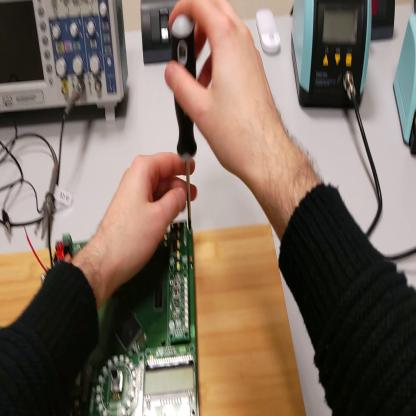hand: (166, 3, 283, 183), (101, 152, 193, 288)
low voltage board: (23, 207, 199, 416)
oscilloscope: (2, 1, 130, 127)
oscilloscope probe tip: (40, 149, 60, 238)
screwdriver-: (172, 16, 198, 232)
socket: (372, 3, 397, 38)
welder base: (392, 13, 416, 155)
welder station: (291, 2, 373, 113)
working area: (2, 219, 308, 415)
